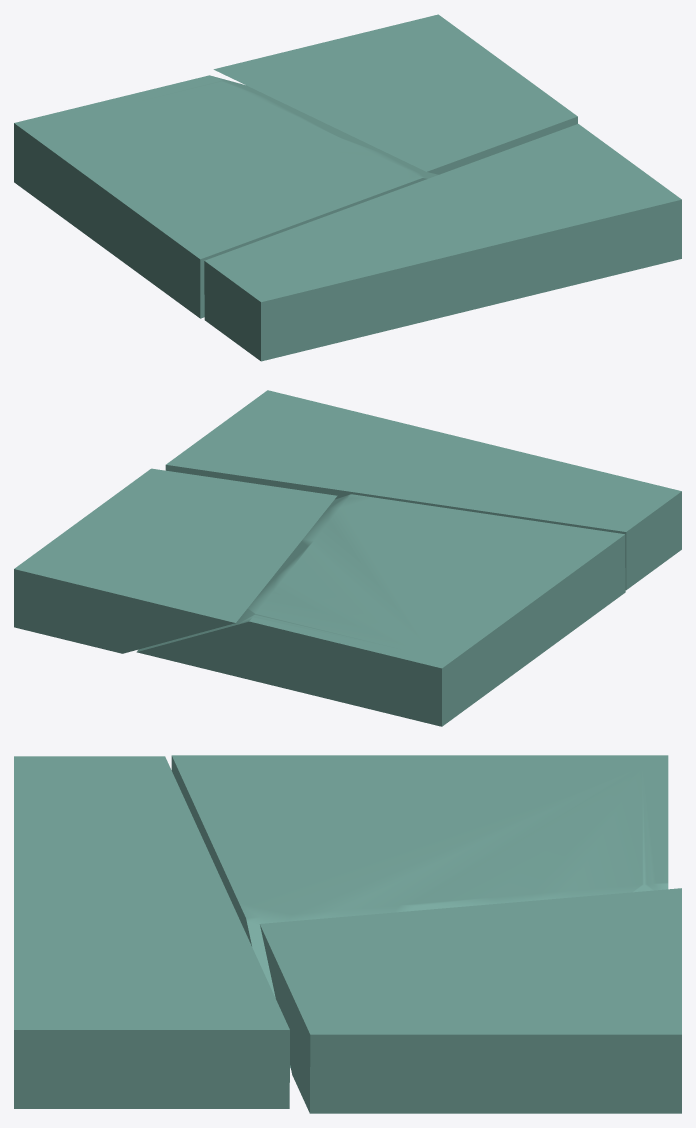
File: Sidewalk Cracked 1.fbx
The picture shows the model from 3 angles, top to bottom: view 1: azimuth 30°, elevation 25°; view 2: azimuth 150°, elevation 25°; view 3: azimuth 270°, elevation 25°; orthographic projection. The views are drawn at different scales.
Visible parts, largest first — view 1: shard28; view 2: shard28; view 3: shard28.
Part boxes in pixels (bbox=[...]): shard28: bbox=[14, 14, 681, 361]; shard28: bbox=[14, 390, 681, 726]; shard28: bbox=[14, 755, 681, 1113].
Bounding box in the file's own units: 6.99 × 0.9211 × 7.06.
